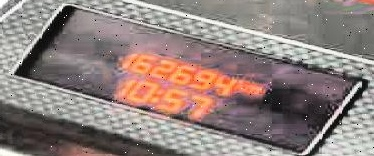0: (123, 77, 154, 102)
1: (116, 50, 138, 69), (116, 76, 134, 96)
2: (149, 56, 174, 79)
4: (212, 74, 234, 94)
5: (154, 87, 187, 112)
6: (165, 61, 194, 84), (130, 51, 150, 74)
7: (187, 92, 212, 120)
9: (192, 66, 214, 90)
X: (147, 86, 165, 102), (243, 81, 258, 94), (234, 77, 243, 91)
